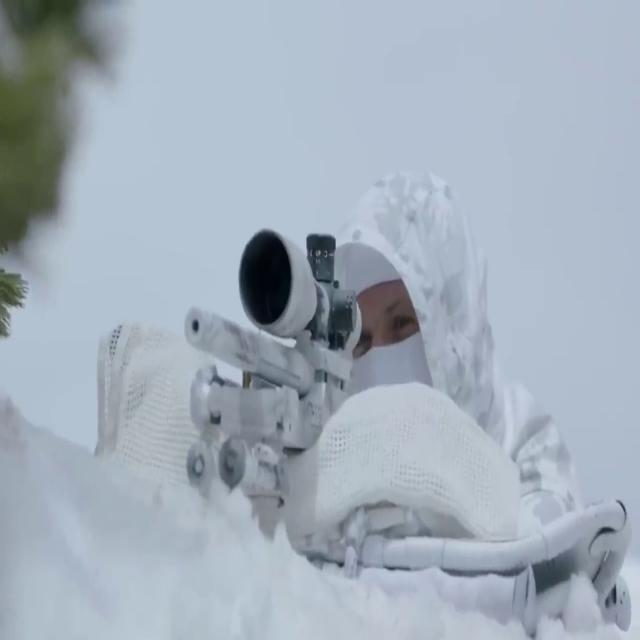Human: (184, 168, 633, 637)
